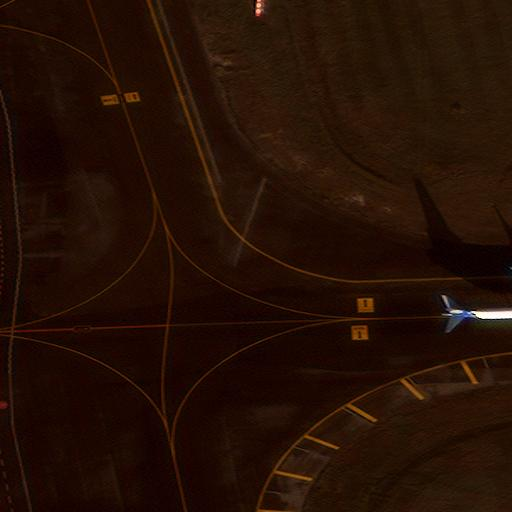Medium Civil Transport: (442, 273, 512, 343)
